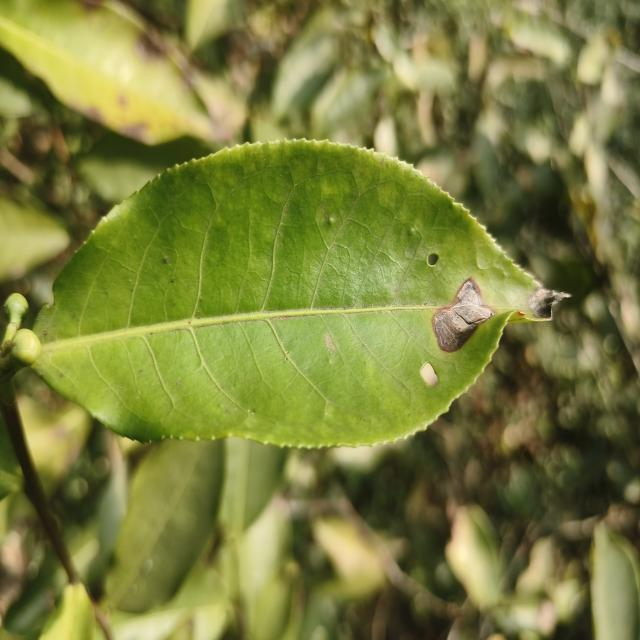Leaf: (33, 140, 557, 447), (0, 0, 242, 144), (105, 439, 225, 612), (78, 133, 211, 204), (220, 437, 287, 535), (0, 196, 70, 282), (445, 505, 501, 608), (591, 523, 640, 640), (272, 39, 334, 118), (40, 584, 95, 640), (184, 0, 242, 50), (508, 20, 570, 65)
